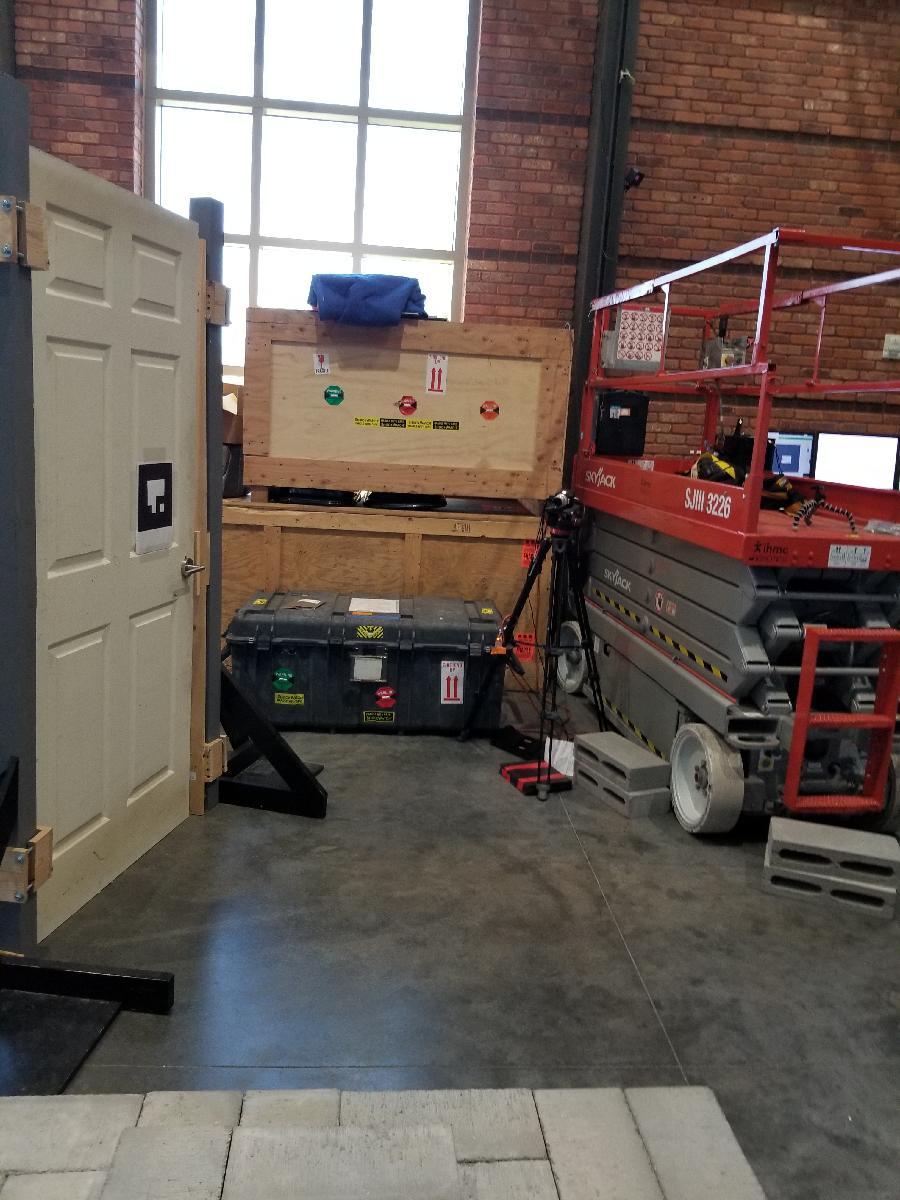door: (26, 140, 204, 947)
doorHandle: (177, 551, 211, 585)
